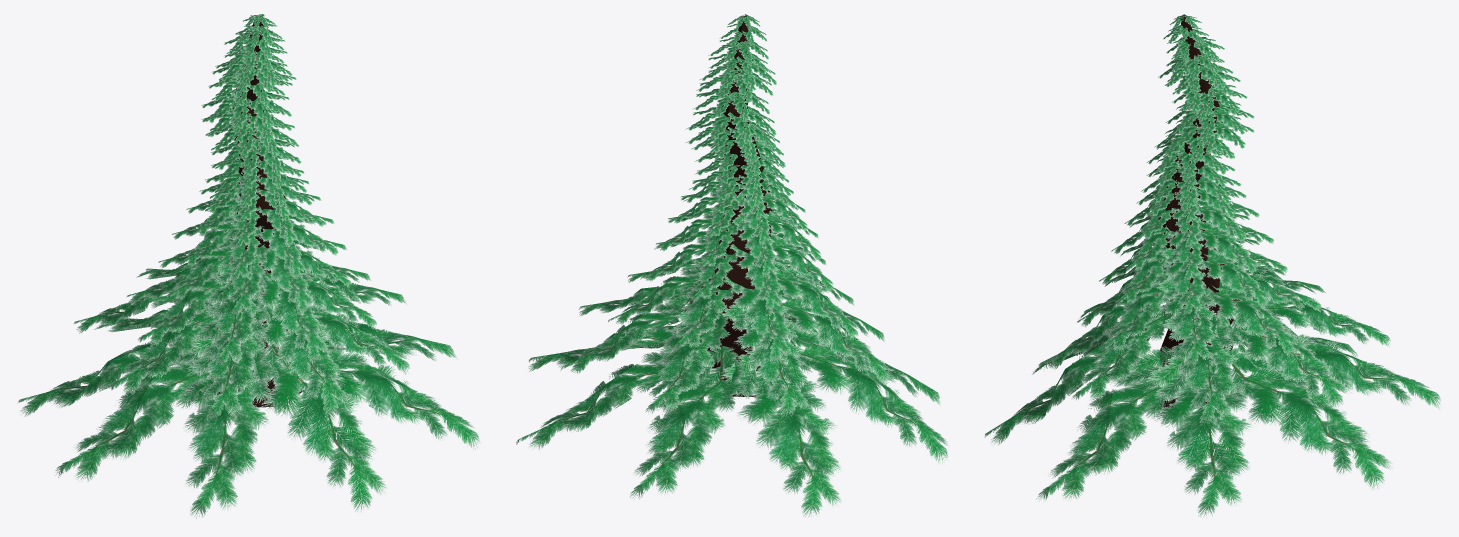
The model's file is folhasgalhudas6.fbx.
The picture shows the model from 3 angles, left to right: view 1: azimuth 30°, elevation 25°; view 2: azimuth 150°, elevation 25°; view 3: azimuth 270°, elevation 25°; orthographic projection. The views are drawn at different scales.
Parts seen in each view (by area): view 1: aplicartextpinheiroblender.046; view 2: aplicartextpinheiroblender.046; view 3: aplicartextpinheiroblender.046.
Part boxes in pixels (x1=…): aplicartextpinheiroblender.046: x1=17, y1=14, x2=480, y2=518; aplicartextpinheiroblender.046: x1=516, y1=14, x2=948, y2=518; aplicartextpinheiroblender.046: x1=984, y1=14, x2=1441, y2=518.
Bounding box in the file's own units: 817 × 804 × 786.
